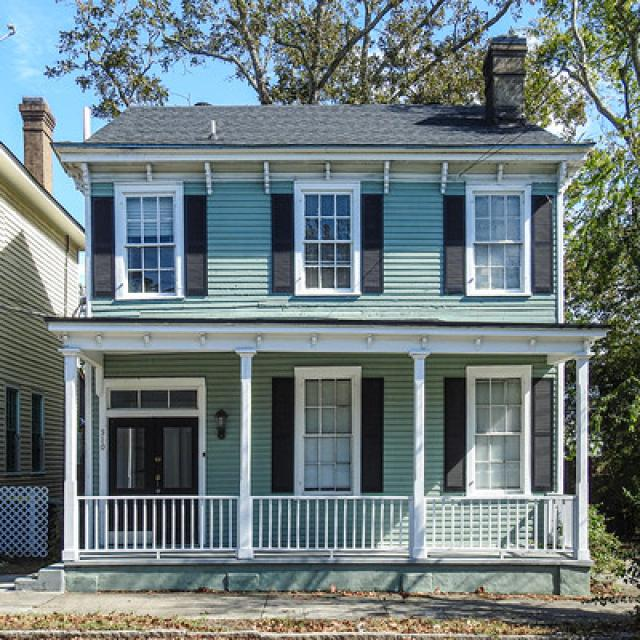Normal_building: (49, 35, 610, 600)
